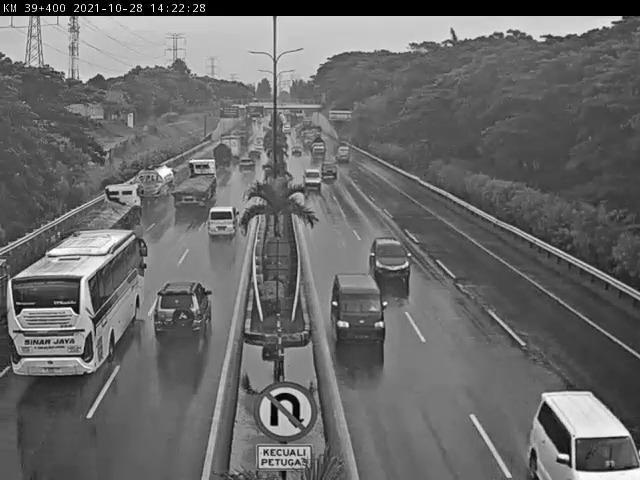big bus: (42, 231, 148, 358)
big truck: (103, 185, 142, 228), (183, 156, 216, 200)
car: (516, 386, 640, 480), (320, 275, 387, 349), (153, 279, 209, 340), (364, 235, 410, 280), (208, 205, 239, 238), (299, 168, 320, 193), (321, 162, 339, 181), (241, 159, 263, 173), (248, 144, 263, 160), (251, 139, 264, 154)
small truck: (133, 154, 170, 198), (211, 143, 232, 168), (335, 142, 353, 162)
